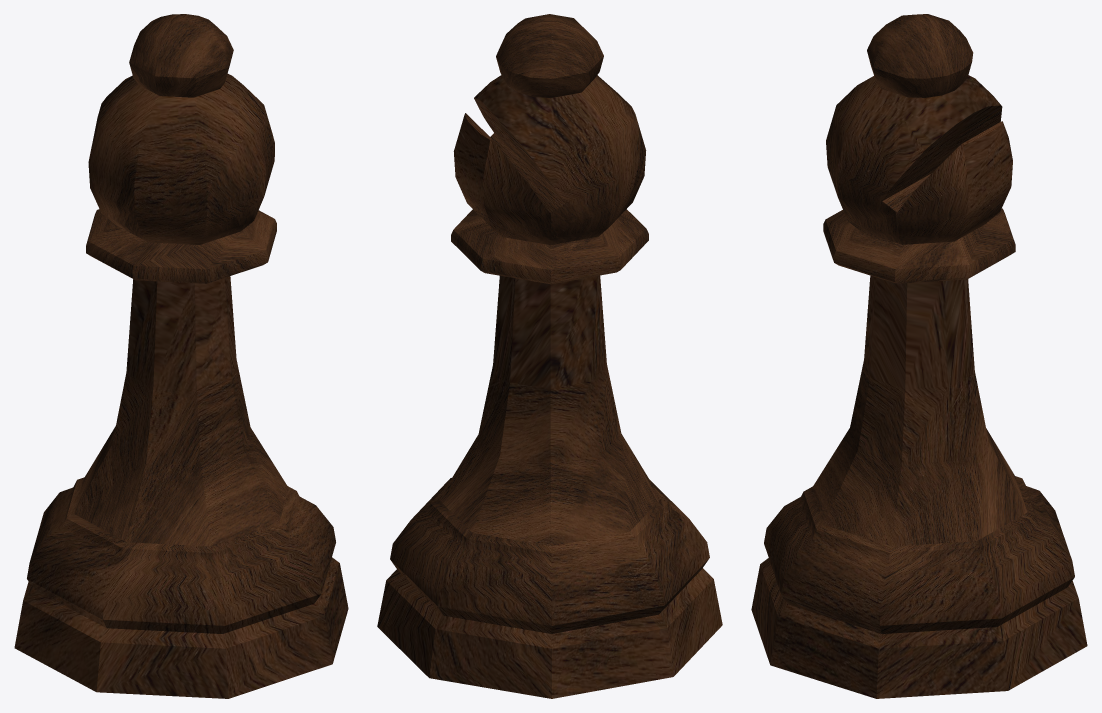
Rendered from gercek4_b_b.glb.
3 views of the same model, side by side, from view 1: azimuth 30°, elevation 25°; view 2: azimuth 150°, elevation 25°; view 3: azimuth 270°, elevation 25° (orthographic).
Visible parts, largest first — view 1: BlackBishop_4; view 2: BlackBishop_4; view 3: BlackBishop_4.
Boxes of the visible parts, box(x1,y1,x2,y2) form: BlackBishop_4: box(14, 14, 348, 698); BlackBishop_4: box(377, 14, 722, 698); BlackBishop_4: box(751, 14, 1087, 698).
Size of the model in its own units: 0.0288 by 0.0576 by 0.0288.
1 material, 1 textured.
